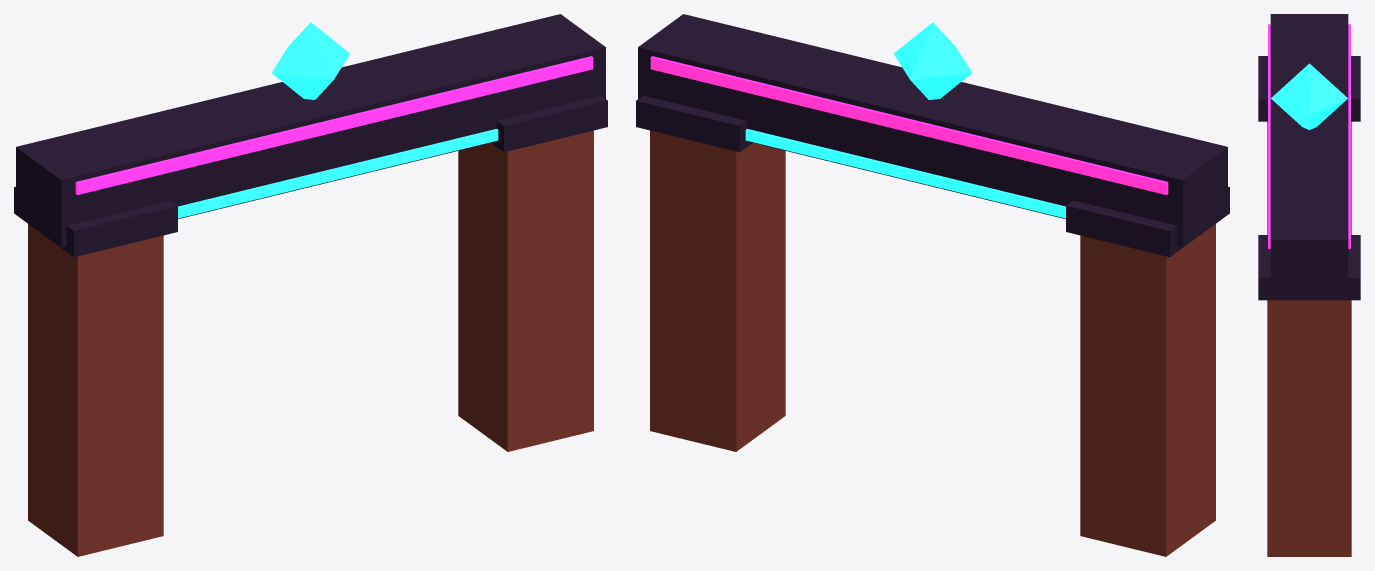
File: prop_arch.glb
3 renders of one model, left to right at view 1: azimuth 30°, elevation 25°; view 2: azimuth 150°, elevation 25°; view 3: azimuth 270°, elevation 25°, orthographic. The views are drawn at different scales.
Parts seen in each view (by area): view 1: lintel, pillar_l, pillar_r, neon_bar_top, neon_bar_bot, cap_l, cap_r, star_crest; view 2: lintel, pillar_l, pillar_r, neon_bar_top, neon_bar_bot, cap_l, cap_r, star_crest; view 3: pillar_r, lintel, star_crest, cap_r, neon_bar_top, cap_l, pillar_l.
Part boxes in pixels (x1,y1,x2,y2): lintel: [16, 14, 605, 247]; pillar_l: [28, 224, 163, 556]; pillar_r: [458, 130, 593, 451]; neon_bar_top: [75, 56, 593, 194]; neon_bar_bot: [178, 128, 498, 218]; cap_l: [14, 186, 177, 257]; cap_r: [491, 95, 607, 152]; star_crest: [272, 22, 349, 99]; lintel: [638, 14, 1227, 247]; pillar_l: [1080, 224, 1215, 556]; pillar_r: [650, 130, 785, 451]; neon_bar_top: [650, 56, 1168, 194]; neon_bar_bot: [745, 128, 1065, 218]; cap_l: [1066, 186, 1229, 257]; cap_r: [636, 95, 752, 152]; star_crest: [894, 22, 971, 99]; pillar_r: [1267, 300, 1351, 556]; lintel: [1270, 14, 1348, 297]; star_crest: [1271, 63, 1347, 129]; cap_r: [1258, 235, 1360, 300]; neon_bar_top: [1268, 24, 1350, 248]; cap_l: [1258, 56, 1360, 121]; pillar_l: [1267, 121, 1351, 234].
Size of the model in its own units: 7.6 by 6.05 by 1.45.
